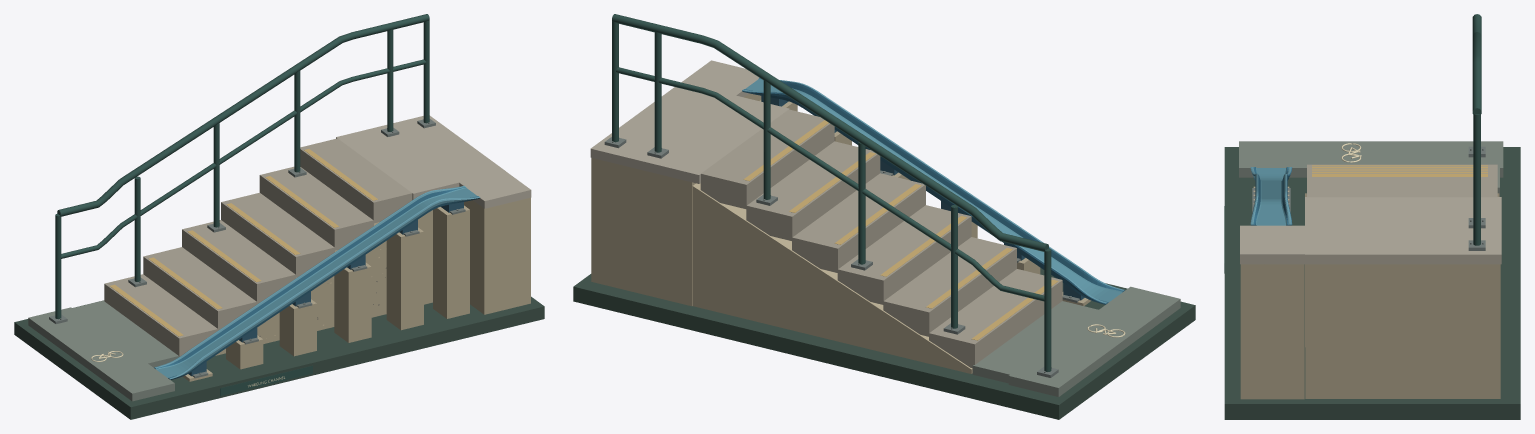
The model's file is stair-side-bicycle-wheeling-channel.glb.
The picture shows the model from 3 angles, left to right: view 1: azimuth 30°, elevation 25°; view 2: azimuth 150°, elevation 25°; view 3: azimuth 270°, elevation 25°; orthographic projection. The views are drawn at different scales.
Parts seen in each view (by area): view 1: Cutaway exhibit base, CONTINUOUS_WHEEL_TROUGH, Upper landing slab behind clear channel, Upper landing closeout pier, Lower cropped loading landing slab, Editable concrete stair tread.005, Editable concrete stair tread.003, Editable concrete stair tread.004, Editable concrete stair tread.001, Editable concrete stair tread.002, Editable concrete stair tread, Discrete concrete side seat.005 (+17 smaller); view 2: Sloped core below abruptly cut stair side, Cutaway exhibit base, Long pier below rear upper landing, Upper landing slab behind clear channel, Lower cropped loading landing slab, CONTINUOUS_WHEEL_TROUGH, Editable concrete stair tread.005, Editable concrete stair tread.004, Editable concrete stair tread.003, Editable concrete stair tread.002, Editable concrete stair tread.001, Editable concrete stair tread (+10 smaller); view 3: Long pier below rear upper landing, Cutaway exhibit base, Upper landing slab behind clear channel, Upper landing closeout pier, Lower cropped loading landing slab, Editable concrete stair tread.005, Narrow upper handover closeout slab, CONTINUOUS_WHEEL_TROUGH, Independently editable rail upright.005, Continuous separate upper pedestrian rail, Held amber tread nosing accent.005, Editable concrete stair tread (+4 smaller).
Boxes of the visible parts, x1,y1,x2,y2 form: Cutaway exhibit base: [14, 296, 544, 419]; CONTINUOUS_WHEEL_TROUGH: [154, 185, 480, 379]; Upper landing slab behind clear channel: [336, 115, 505, 199]; Upper landing closeout pier: [464, 197, 530, 314]; Lower cropped loading landing slab: [28, 307, 174, 401]; Editable concrete stair tread.005: [300, 138, 412, 223]; Editable concrete stair tread.003: [221, 192, 334, 277]; Editable concrete stair tread.004: [259, 166, 373, 250]; Editable concrete stair tread.001: [143, 247, 257, 330]; Editable concrete stair tread.002: [182, 220, 295, 303]; Editable concrete stair tread: [104, 274, 218, 356]; Discrete concrete side seat.005: [433, 205, 469, 318]; Sloped core below abruptly cut stair side: [692, 183, 972, 373]; Cutaway exhibit base: [573, 268, 1195, 419]; Long pier below rear upper landing: [591, 158, 695, 306]; Upper landing slab behind clear channel: [590, 87, 789, 183]; Lower cropped loading landing slab: [1008, 286, 1180, 396]; CONTINUOUS_WHEEL_TROUGH: [742, 78, 1124, 304]; Editable concrete stair tread.005: [700, 109, 834, 208]; Editable concrete stair tread.004: [746, 141, 880, 240]; Editable concrete stair tread.003: [792, 173, 925, 272]; Editable concrete stair tread.002: [837, 205, 971, 304]; Editable concrete stair tread.001: [883, 237, 1016, 336]; Editable concrete stair tread: [929, 269, 1062, 368]; Long pier below rear upper landing: [1305, 264, 1500, 398]; Cutaway exhibit base: [1224, 147, 1520, 419]; Upper landing slab behind clear channel: [1305, 197, 1501, 264]; Upper landing closeout pier: [1240, 264, 1304, 399]; Lower cropped loading landing slab: [1239, 141, 1503, 177]; Editable concrete stair tread.005: [1307, 173, 1497, 197]; Narrow upper handover closeout slab: [1240, 225, 1305, 264]; CONTINUOUS_WHEEL_TROUGH: [1250, 167, 1292, 225]; Independently editable rail upright.005: [1473, 114, 1480, 245]; Continuous separate upper pedestrian rail: [1472, 14, 1481, 114]; Held amber tread nosing accent.005: [1312, 173, 1487, 176]; Editable concrete stair tread: [1307, 164, 1497, 166].
Bounding box in the file's own units: 2.84 × 1.56 × 1.39.
